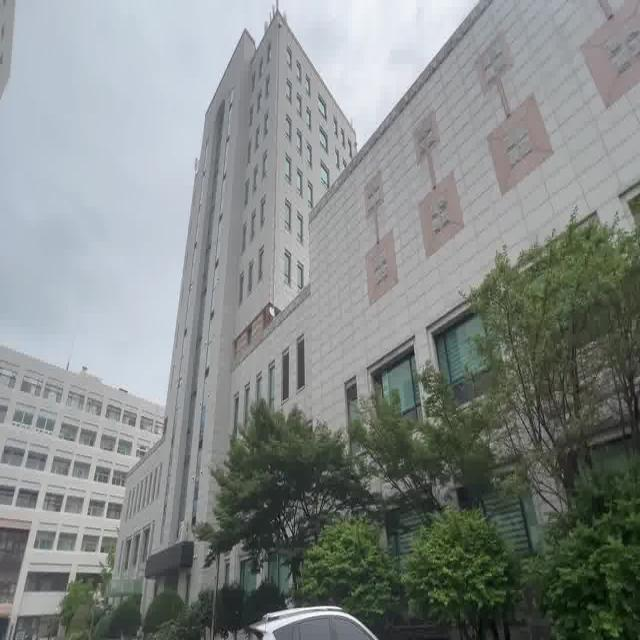building: (176, 1, 473, 374)
